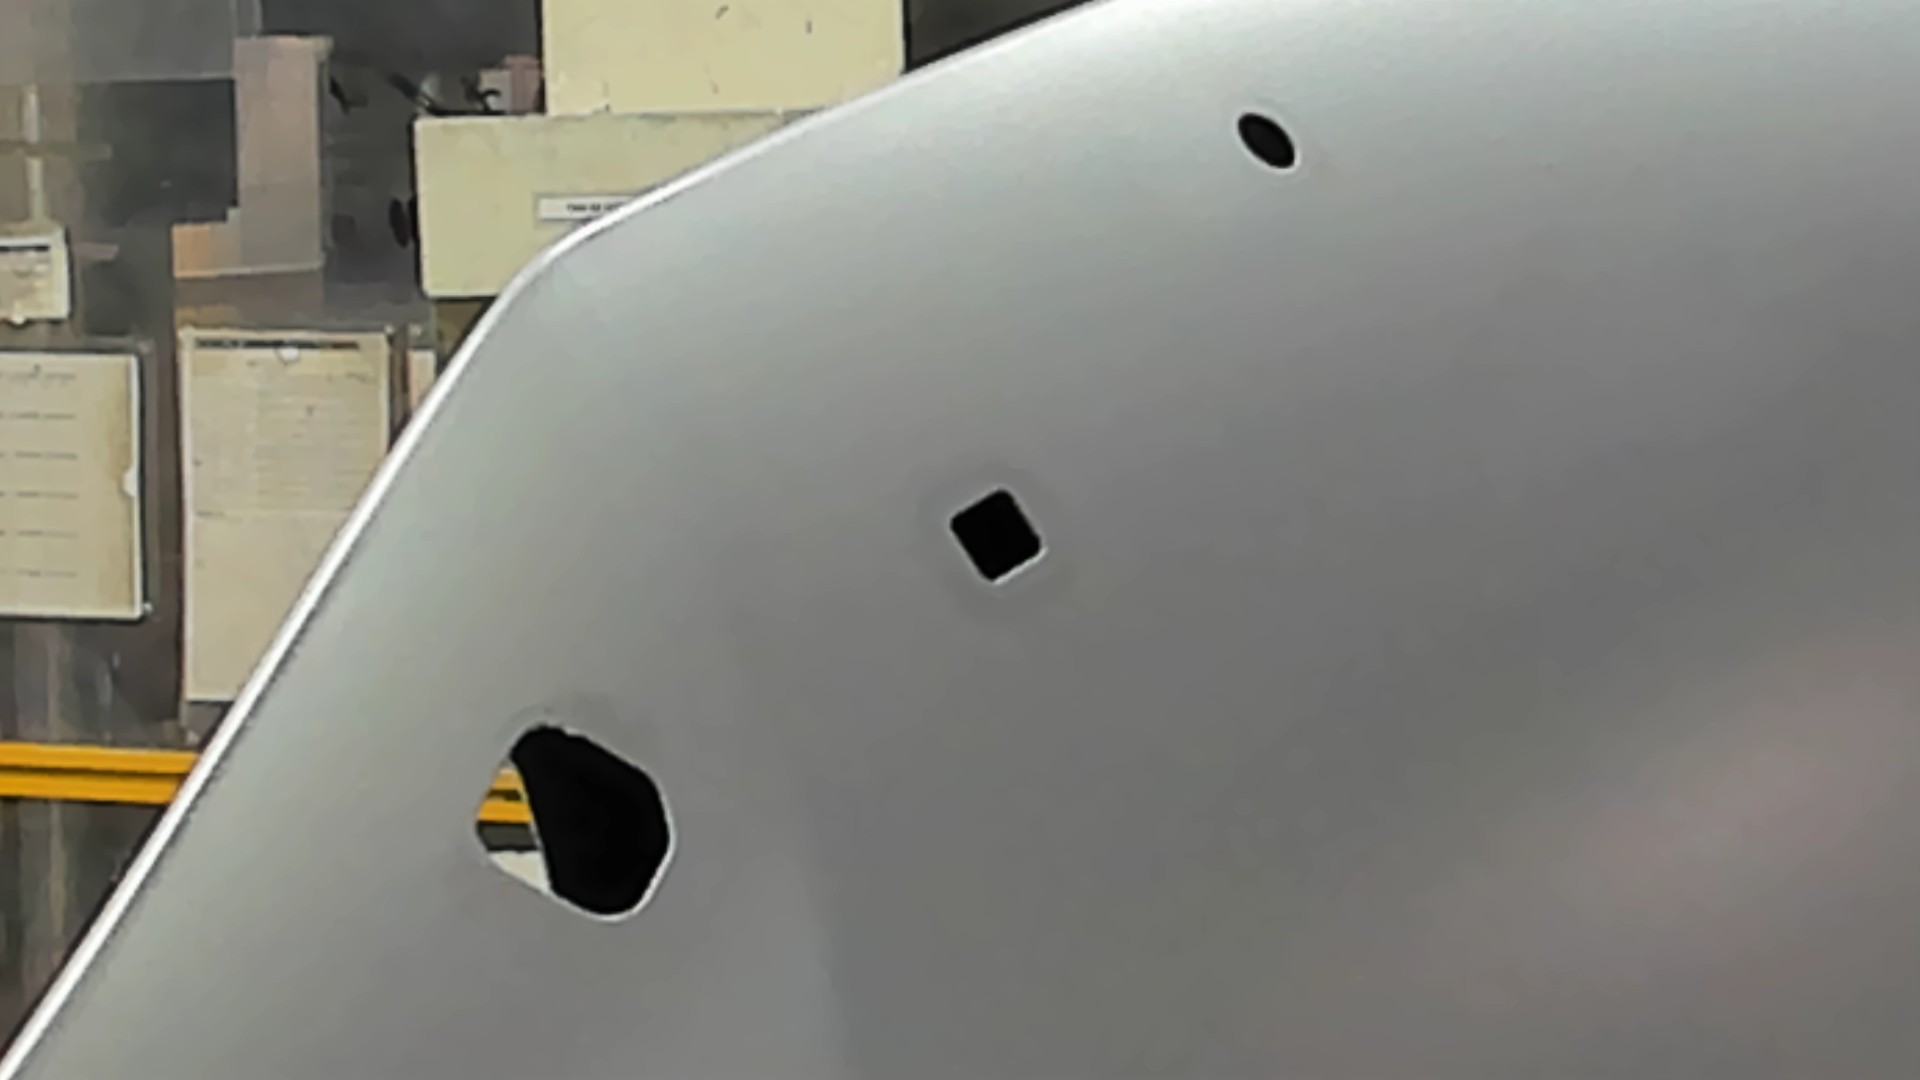chico: (1230, 105, 1304, 175)
grande: (464, 715, 680, 928)
mediano: (938, 483, 1052, 595)
